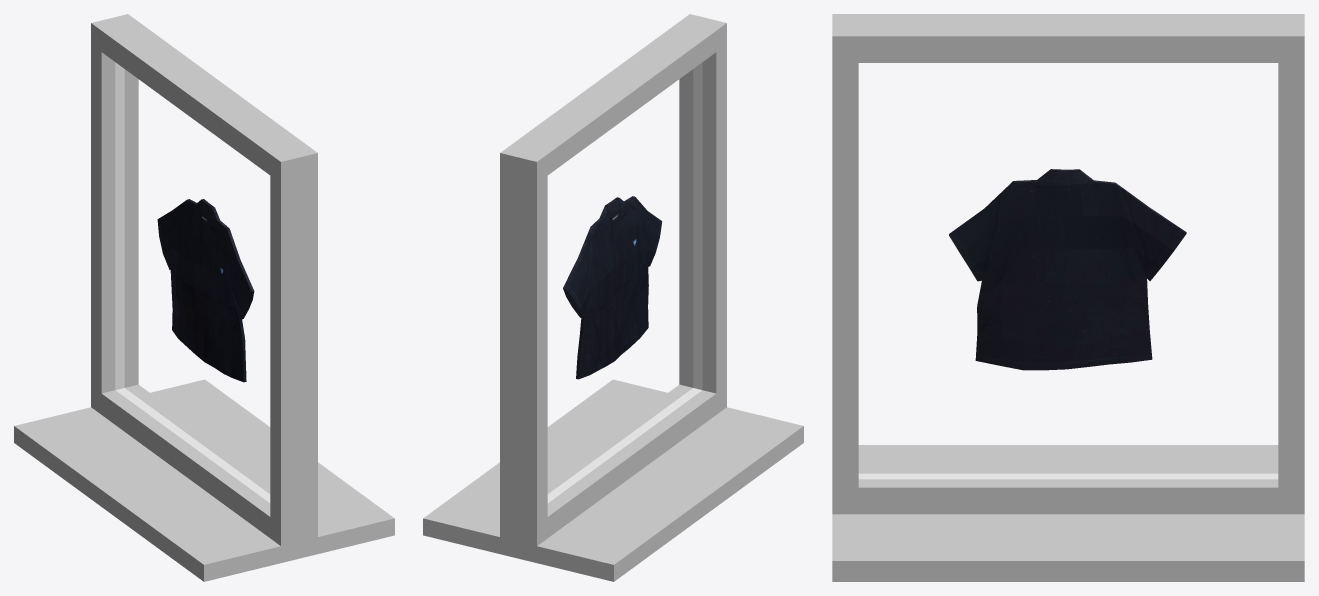
File: kimono_navy.glb
3 renders of one model, left to right at view 1: azimuth 30°, elevation 25°; view 2: azimuth 150°, elevation 25°; view 3: azimuth 270°, elevation 25°, orthographic. The views are drawn at different scales.
Parts seen in each view (by area): view 1: Cube.028, Plane.019; view 2: Cube.028, Plane.019; view 3: Cube.028, Plane.019.
Part boxes in pixels (<box>): Cube.028: <box>14,14,394,581</box>; Plane.019: <box>157,199,254,382</box>; Cube.028: <box>423,14,803,581</box>; Plane.019: <box>563,196,662,379</box>; Cube.028: <box>832,14,1304,581</box>; Plane.019: <box>949,169,1186,370</box>.
Bounding box in the file's own units: 0.362 × 0.7276 × 0.6242.
3 materials, 1 textured.
